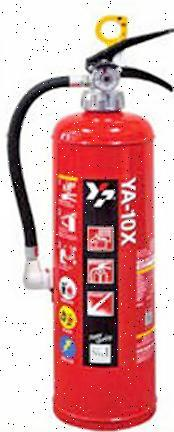Fire Extinguisher: (8, 11, 174, 430)
